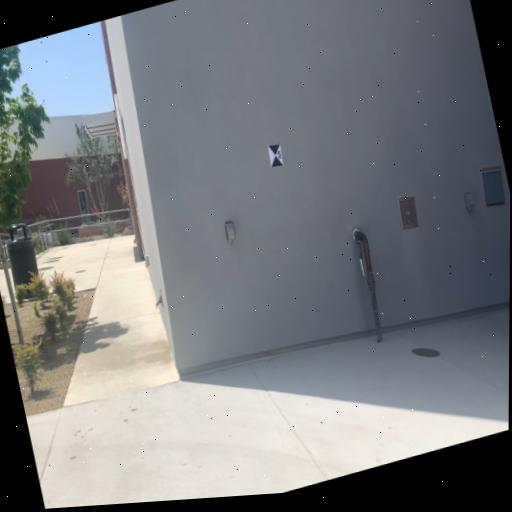target5: (267, 142, 283, 168)
